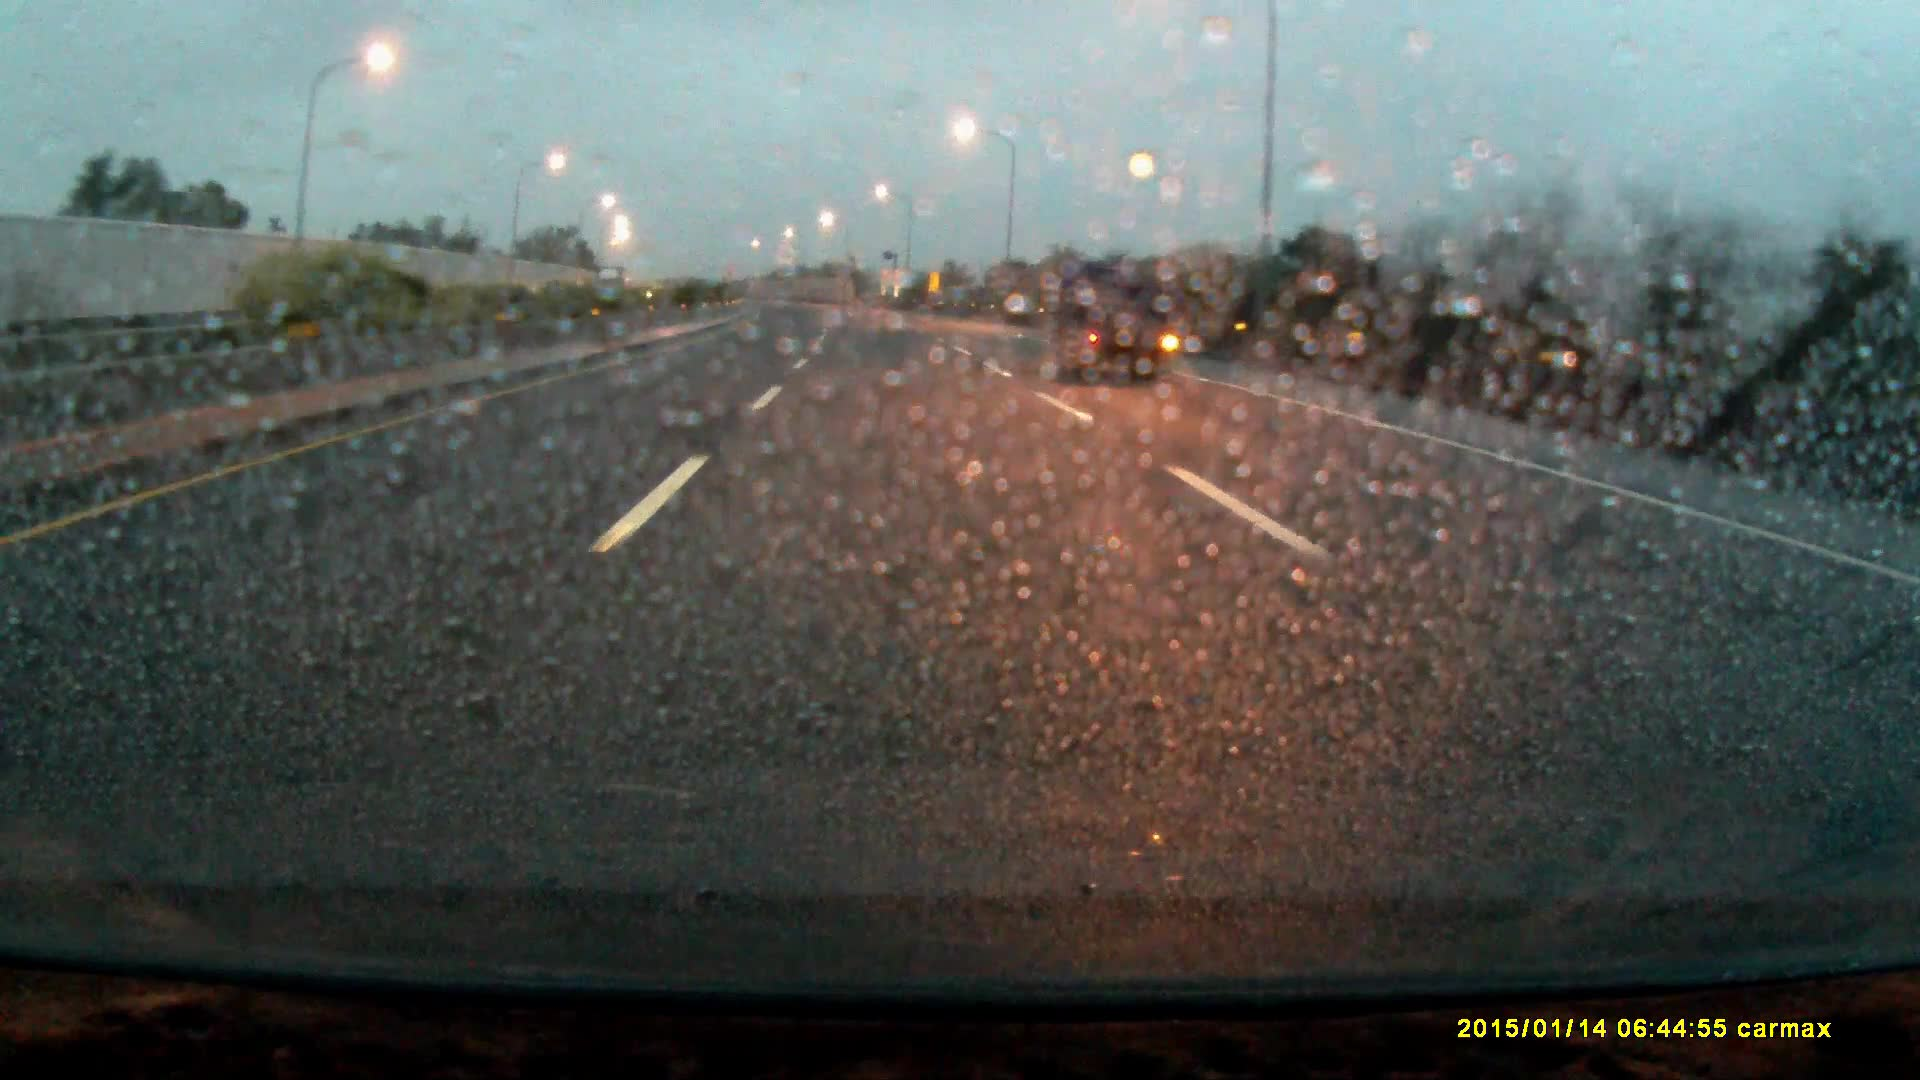vehicle: (1048, 260, 1180, 388), (595, 266, 625, 301)
